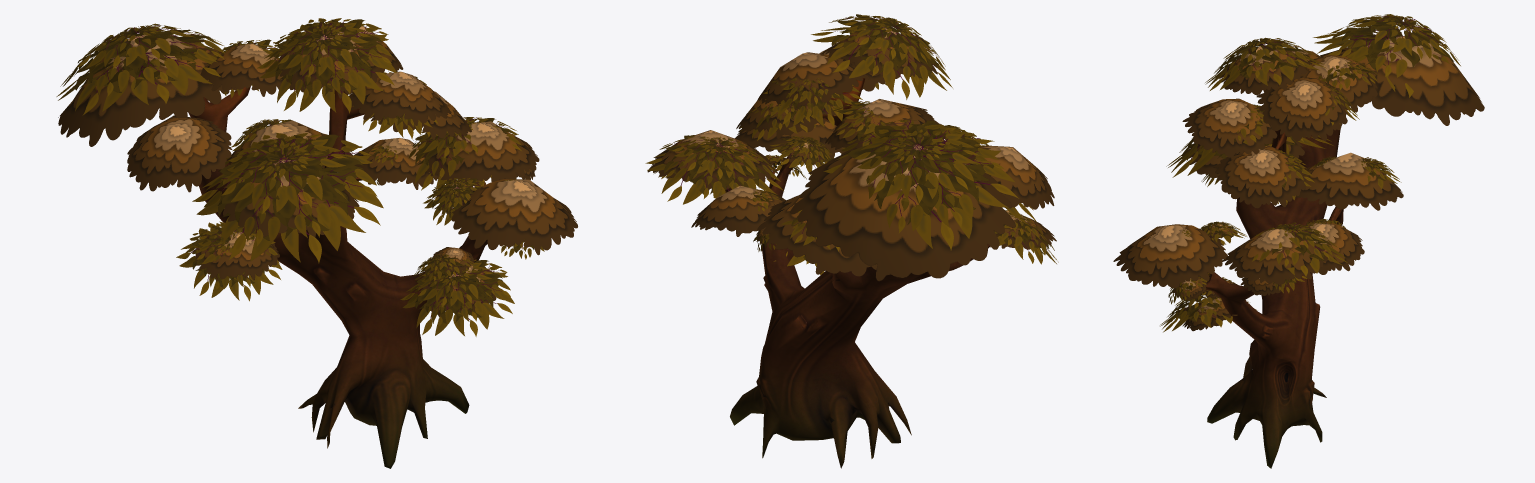
3 views of the same model, side by side, from view 1: azimuth 30°, elevation 25°; view 2: azimuth 150°, elevation 25°; view 3: azimuth 270°, elevation 25° (orthographic). The views are drawn at different scales.
Visible parts, largest first — view 1: leaf1.003, leaf2.003, tree2; view 2: leaf2.003, leaf1.003, tree2; view 3: leaf2.003, leaf1.003, tree2.
Part boxes in pixels (x1,y1,x2,y2): leaf1.003: [56, 18, 544, 336]; leaf2.003: [58, 26, 577, 311]; tree2: [188, 86, 487, 468]; leaf2.003: [647, 27, 1056, 281]; leaf1.003: [645, 14, 1058, 274]; tree2: [725, 74, 989, 468]; leaf2.003: [1113, 36, 1484, 331]; leaf1.003: [1160, 14, 1460, 332]; tree2: [1205, 129, 1343, 468].
Size of the model in its own units: 617 by 545 by 572.
5 materials, 5 textured.
